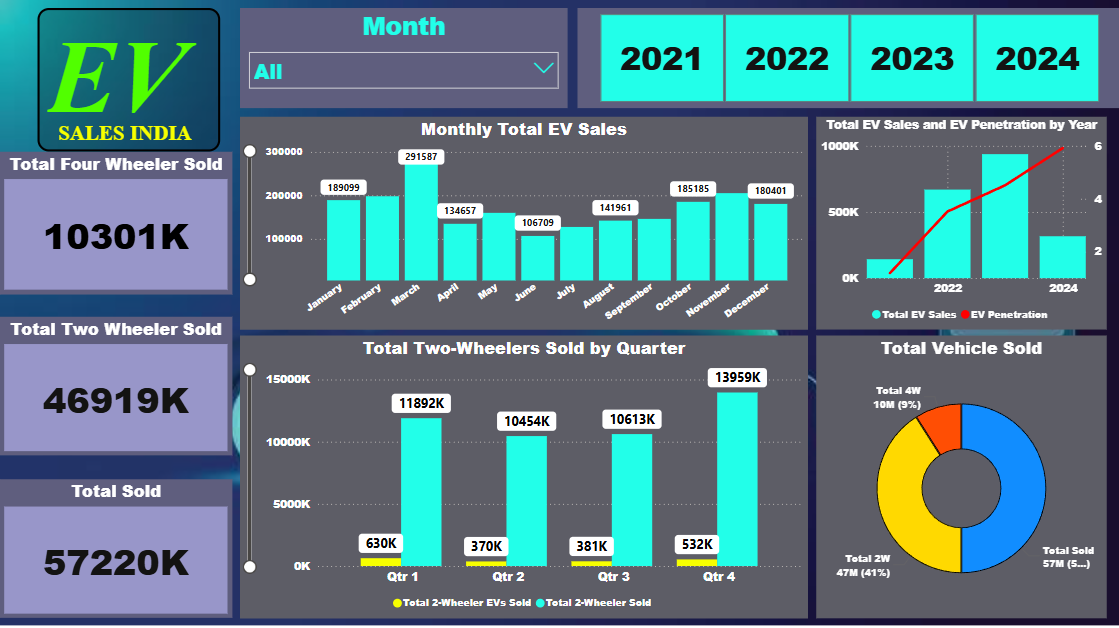

What the dashboard file says about the page in this screenshot:
{"tool":"powerbi","page":{"name":"Year wise sale","canvas":[1280,720],"ordinal":0},"visuals":[{"type":"lineClusteredColumnComboChart","fields":{"Category":["public monthly_summary.sale_date.Variation.Date Hierarchy.Year"],"Y2":["public monthly_summary.EV Penetration"],"Y":["public monthly_summary.Total EV Sales"]},"box":[932.2,135.6,332.2,243.3],"z":0},{"type":"donutChart","title":"Total Vehicle Sold","fields":{"Y":["Sum(public monthly_summary.total_sold)","Sum(public monthly_summary.total_sold_2w)","Sum(public monthly_summary.total_sold_4w)"]},"box":[932.2,385.6,332.2,323.3],"z":1000},{"type":"columnChart","title":"Monthly Total EV Sales","fields":{"Category":["public monthly_summary.sale_date.Variation.Date Hierarchy.Month"],"Y":["Sum(public monthly_summary.ev_sold_total)"]},"box":[274.4,135.6,648.9,243.3],"z":2000},{"type":"slicer","title":"Month","fields":{"Values":["public monthly_summary.sale_date.Variation.Date Hierarchy.Month"]},"box":[274.3,11.4,374.3,114.3],"z":3000},{"type":"cardVisual","title":"Total Four Wheeler Sold","fields":{"Data":["Sum(public monthly_summary.total_sold_4w)"]},"box":[0,175.7,265.7,162.9],"z":4000},{"type":"cardVisual","title":"Total Sold","fields":{"Data":["Sum(public monthly_summary.total_sold)"]},"box":[0,550,265.7,158.6],"z":5000},{"type":"cardVisual","title":"Total Two Wheeler Sold","fields":{"Data":["Sum(public monthly_summary.total_sold_2w)"]},"box":[0,364.3,265.7,158.6],"z":6000},{"type":"textbox","box":[42.9,11.4,208.6,164.3],"z":7000},{"type":"textbox","box":[60.8,135.4,172.3,36.9],"z":8000},{"type":"slicer","fields":{"Values":["public monthly_summary.sale_date.Variation.Date Hierarchy.Year"]},"box":[660,11.4,605.7,114.3],"z":9000},{"type":"lineClusteredColumnComboChart","title":"Total Two-Wheelers Sold by Quarter","fields":{"Y":["Sum(public monthly_summary.ev_sold_2w)","Sum(public monthly_summary.total_sold_2w)"],"Category":["public monthly_summary.sale_date.Variation.Date Hierarchy.Quarter"]},"box":[274.4,385.6,648.9,323.3],"z":10000}]}

Visuals, with their boxes in screenshot pixels (x1, y1, x2, y2), scaled from the page's 1280x720 canvas onto the 1119x628 screenshot:
lineClusteredColumnComboChart - public monthly_summary.sale_date.Variation.Date Hierarchy.Year x public monthly_summary.EV Penetration: [x1=815, y1=118, x2=1105, y2=330]
"Total Vehicle Sold" donutChart: [x1=815, y1=336, x2=1105, y2=618]
"Monthly Total EV Sales" columnChart: [x1=240, y1=118, x2=807, y2=330]
"Month" slicer: [x1=240, y1=10, x2=567, y2=110]
"Total Four Wheeler Sold" cardVisual: [x1=0, y1=153, x2=232, y2=295]
"Total Sold" cardVisual: [x1=0, y1=480, x2=232, y2=618]
"Total Two Wheeler Sold" cardVisual: [x1=0, y1=318, x2=232, y2=456]
textbox: [x1=38, y1=10, x2=220, y2=153]
textbox: [x1=53, y1=118, x2=204, y2=150]
slicer - public monthly_summary.sale_date.Variation.Date Hierarchy.Year: [x1=577, y1=10, x2=1106, y2=110]
"Total Two-Wheelers Sold by Quarter" lineClusteredColumnComboChart: [x1=240, y1=336, x2=807, y2=618]
